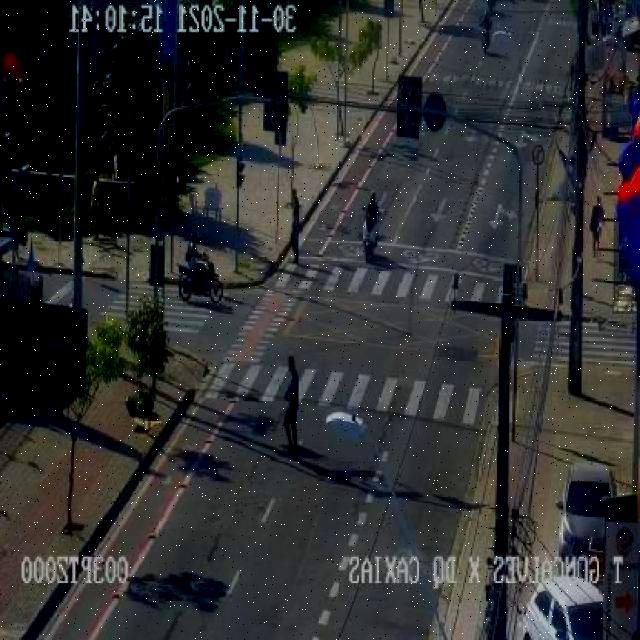Car: (557, 462, 617, 558), (518, 576, 606, 638)
Cycle: (178, 261, 224, 303), (362, 222, 377, 260), (482, 34, 489, 55)
